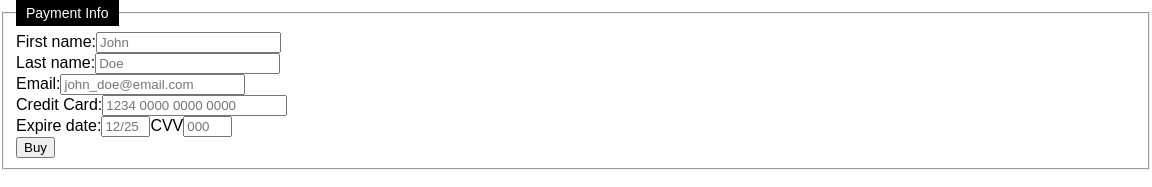
Test: OrderPage › create credit card number normalization › groups by 4 digits
The width and height of the screenshot is (1152, 187).
Type "1324000012340000" into the field labelled "Credit Card:" at (195, 105), box [102, 95, 287, 116]
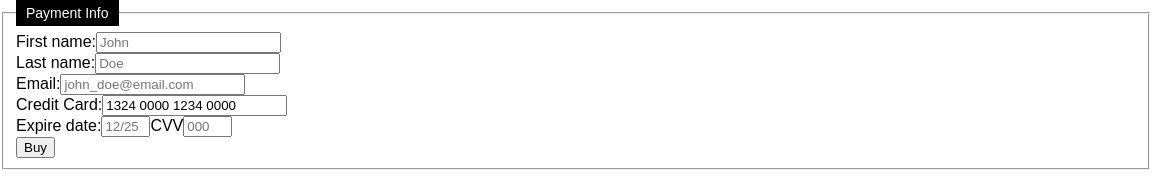
Check: the field labelled "Credit Card:" holds "1324 0000 1234 0000", box [102, 95, 287, 116]
